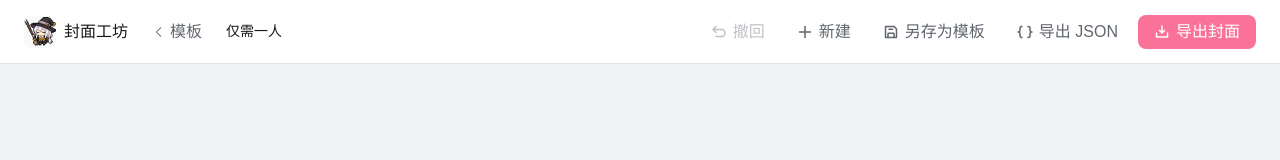
it: 导出成功提示已下载
Click the button "导出封面": point(1197, 32) [1138,14,1256,48]
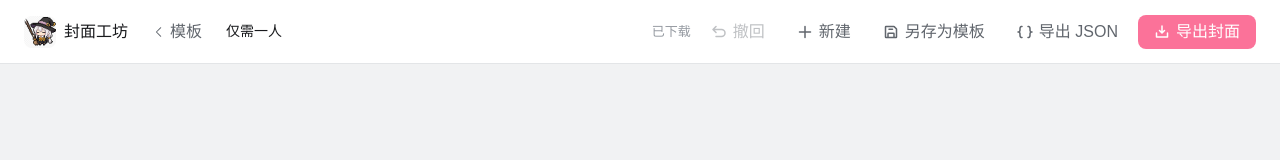
expect the text "已下载" is shown: met, box [652,22,691,41]
